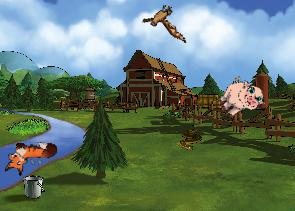eagle: (139, 1, 191, 43)
fox: (4, 140, 57, 176)
pig: (212, 71, 268, 126)
